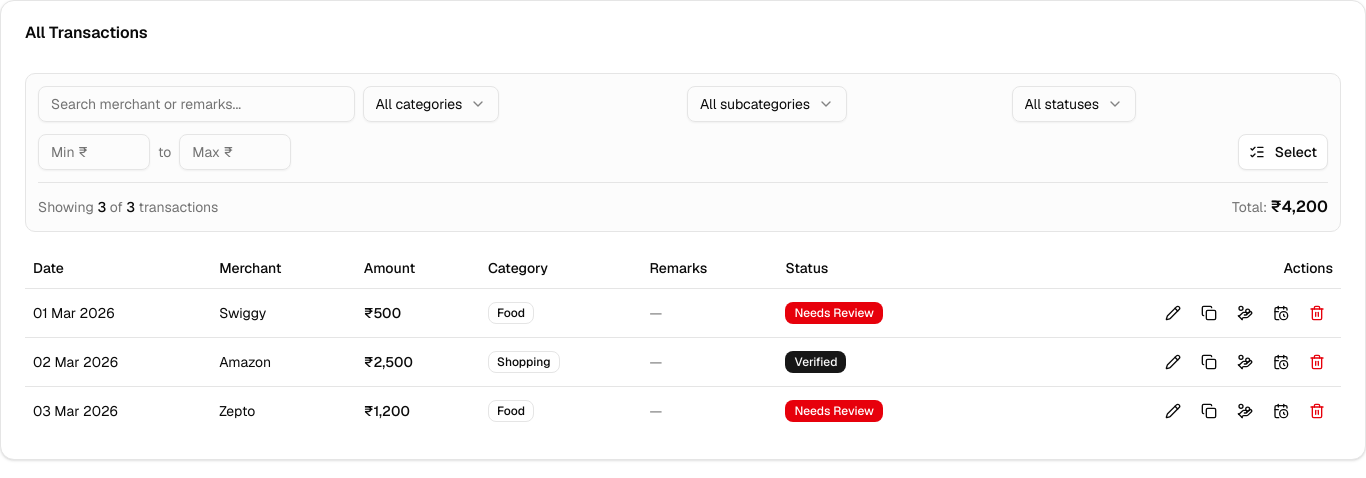
TransactionTable bulk select › disables bulk actions until something is selected
This screenshot has width=1366, height=478.
Click the button "Select". click: click(1283, 152)
box: [1238,134,1328,170]
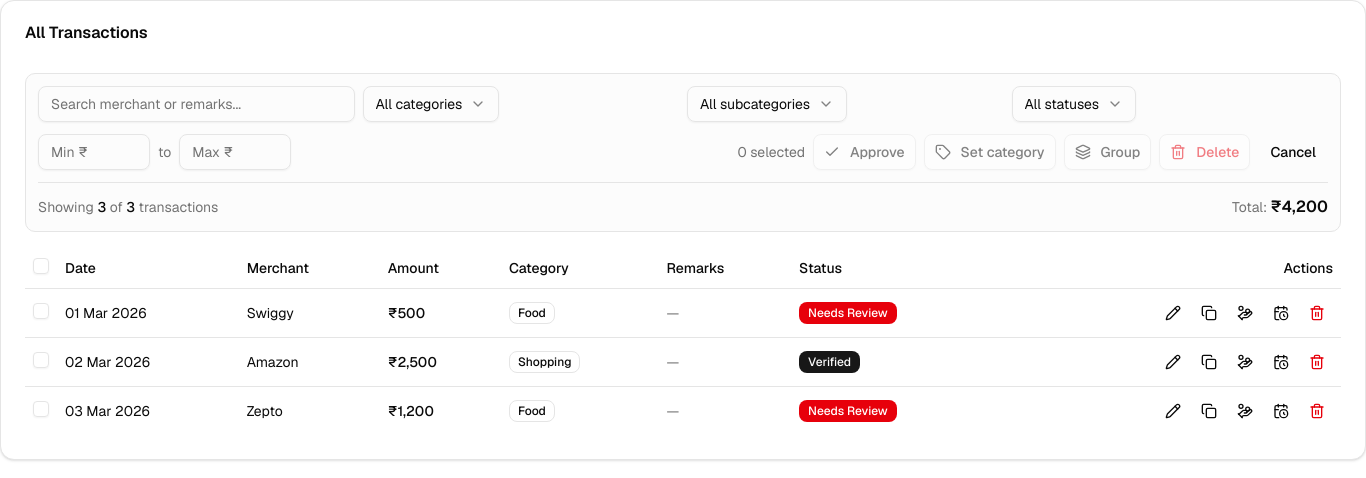
expect the text "0 selected" is shown: met, box [737,142,805,162]
expect the button "Approve" is disabled: met, box [813,134,916,170]
expect the button "Set category" is disabled: met, box [924,134,1056,170]
